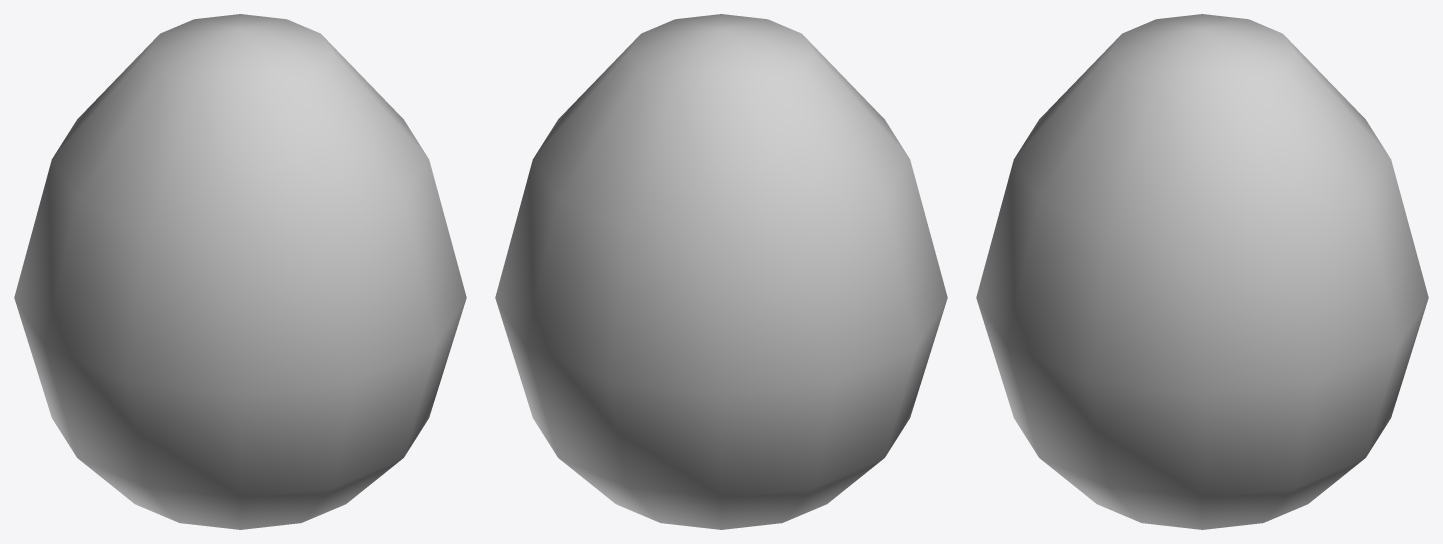
The model's file is Egg1.fbx.
3 views of the same model, side by side, from view 1: azimuth 30°, elevation 25°; view 2: azimuth 150°, elevation 25°; view 3: azimuth 270°, elevation 25° (orthographic).
Parts seen in each view (by area): view 1: Egg1; view 2: Egg1; view 3: Egg1.
Part boxes in pixels (<box>): Egg1: <box>14,14,466,529</box>; Egg1: <box>495,14,947,529</box>; Egg1: <box>976,14,1428,529</box>.
Bounding box in the file's own units: 4.49 × 5.04 × 4.49.
